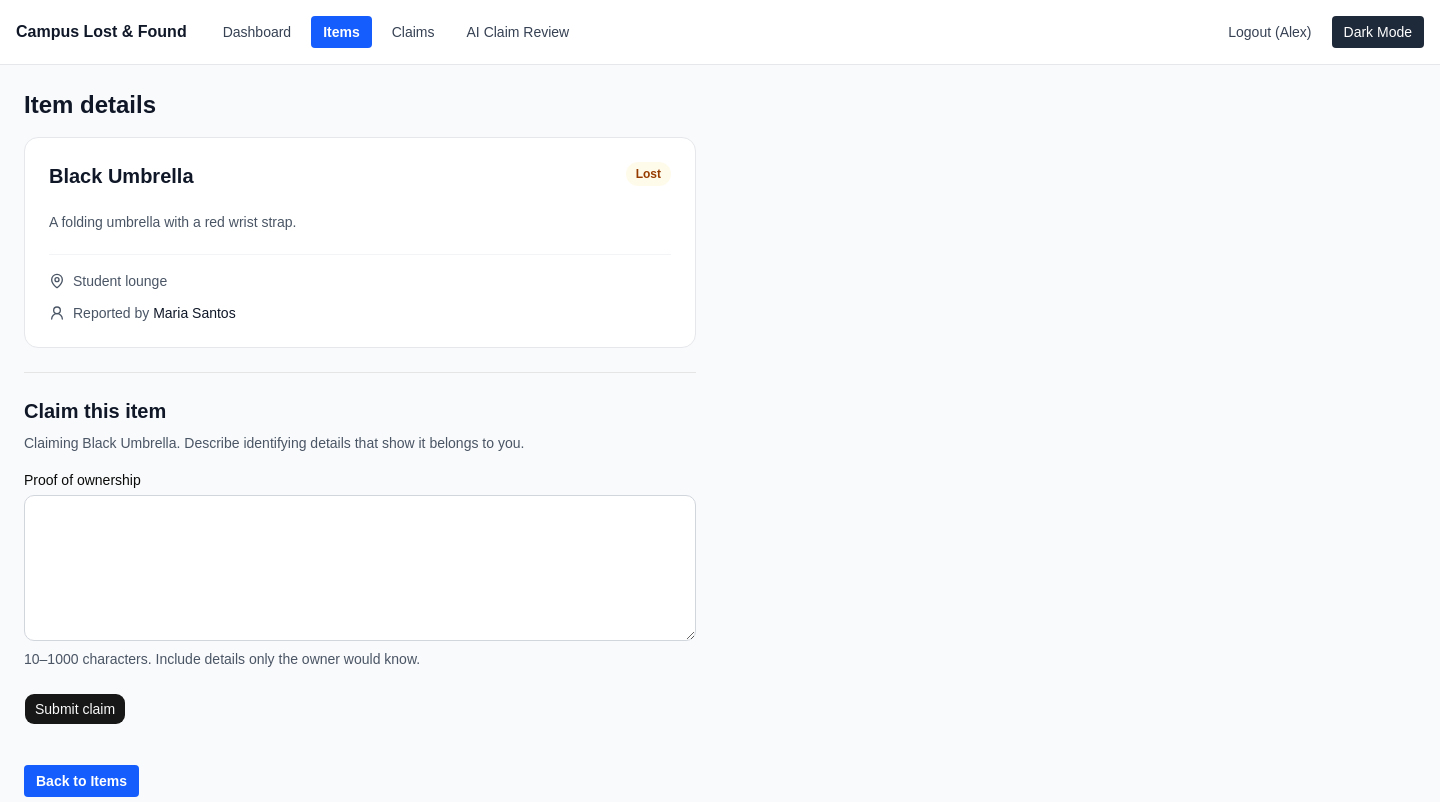
item claim flow › keeps the proof and displays an API failure
Type "My initials are on the handle." into the text box labelled "Proof of ownership" at (360, 568), box [24,495,696,641]
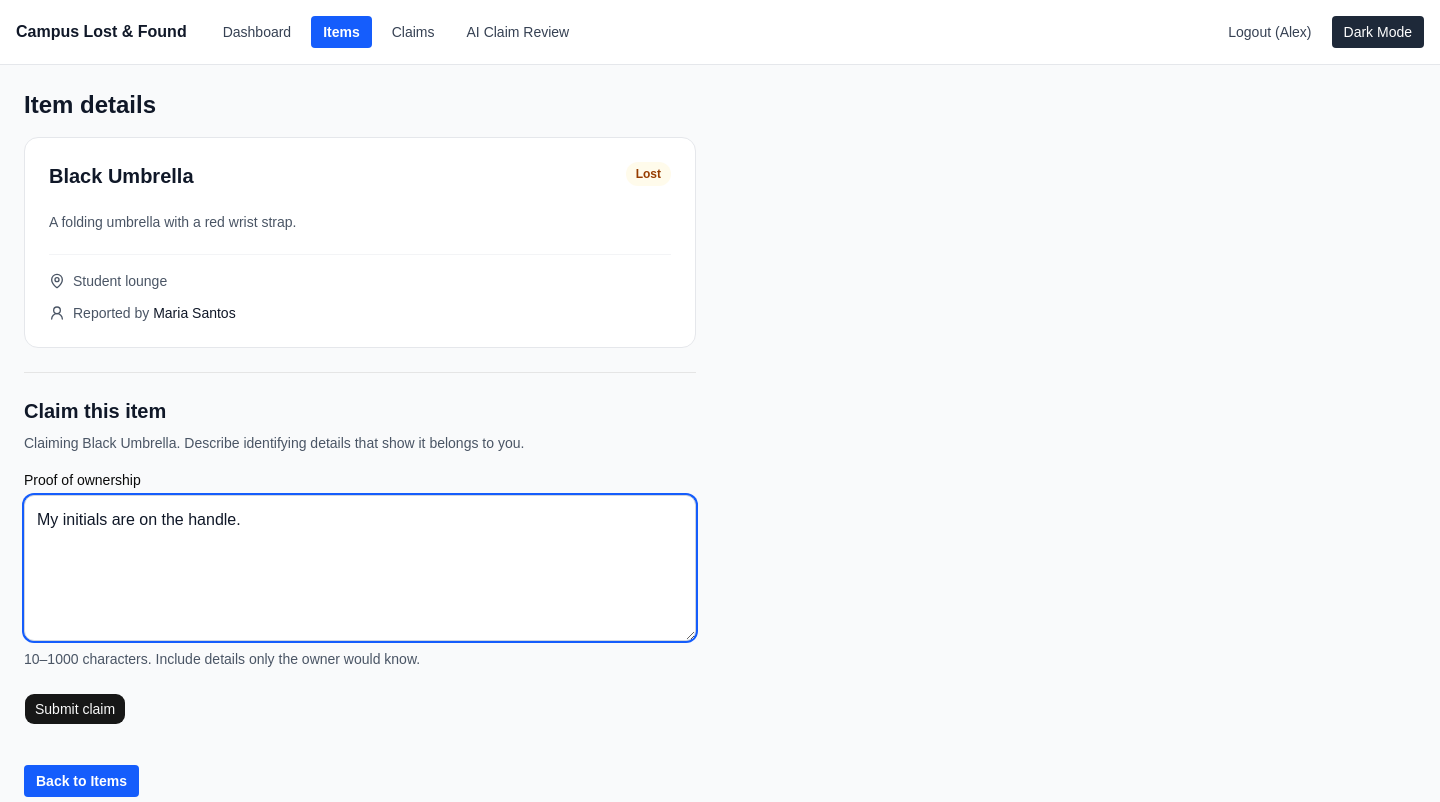
Click the button "Submit claim" at (75, 709), box [24,693,126,725]
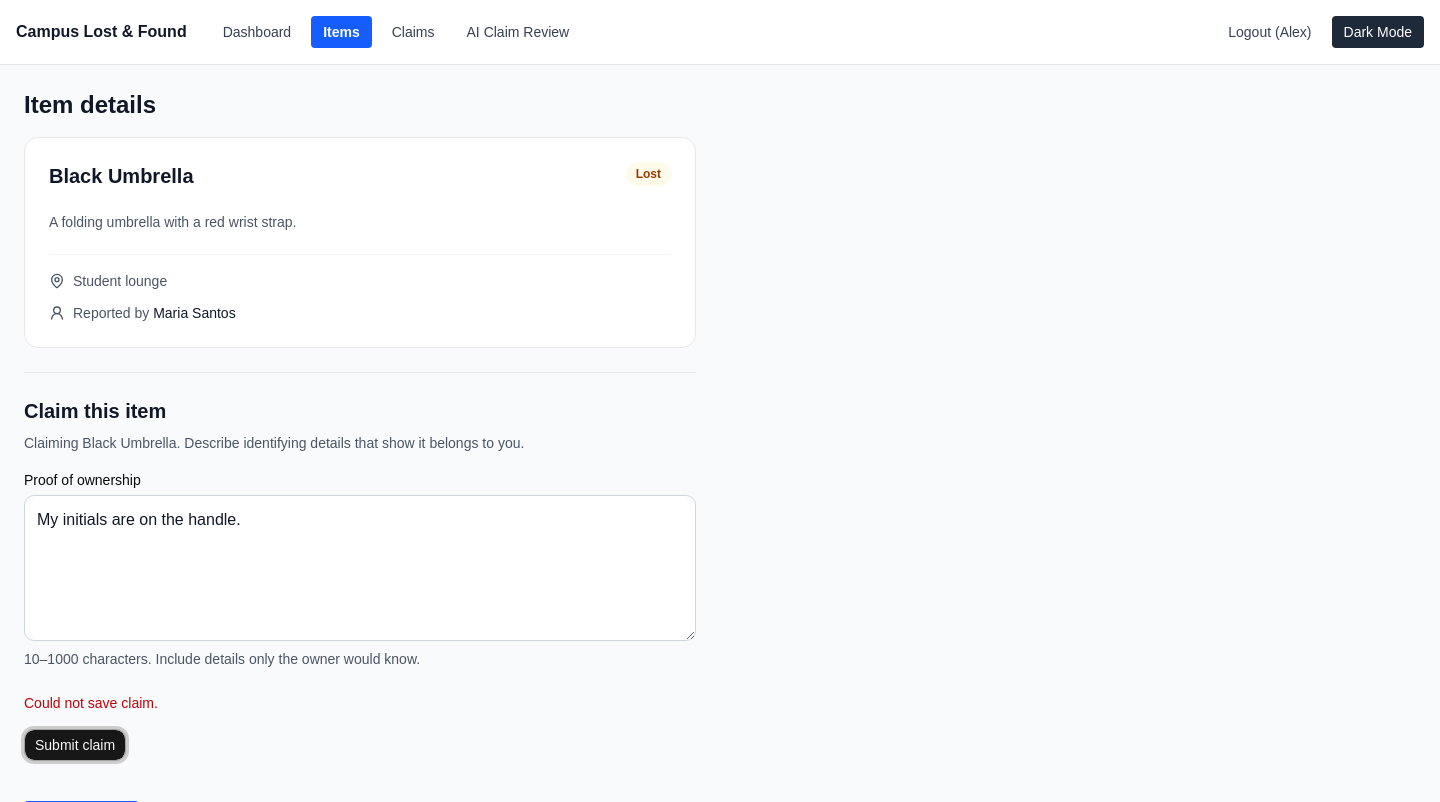
expect the text "Could not save claim." is shown: met, box [24,695,158,711]
